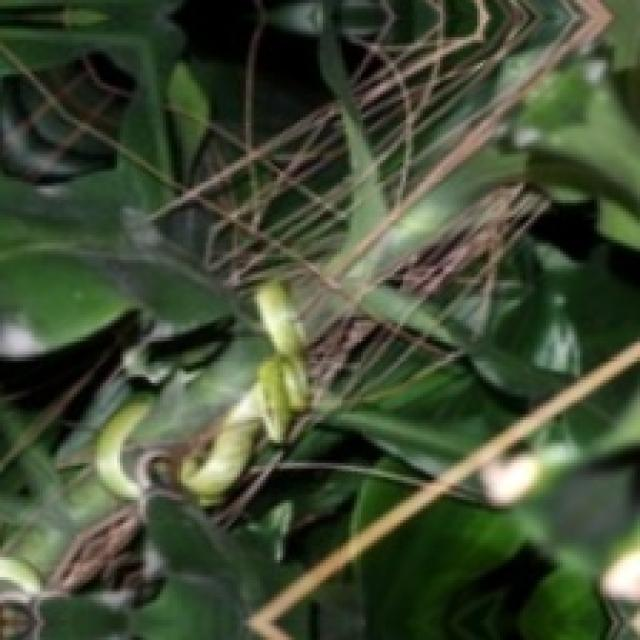red-tailed green ratsnake: (94, 282, 309, 511), (177, 280, 309, 506)
